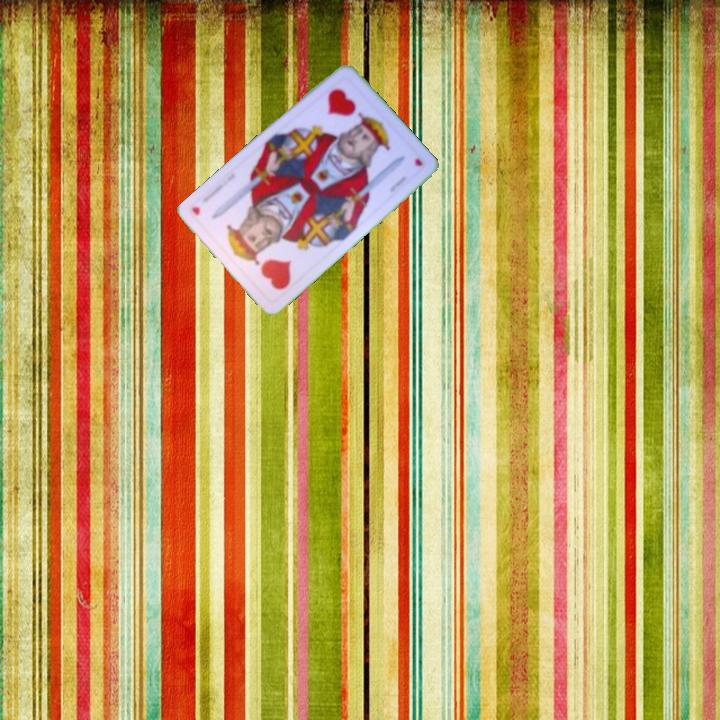h_k.png: (302, 71, 387, 157), (228, 219, 313, 305)
